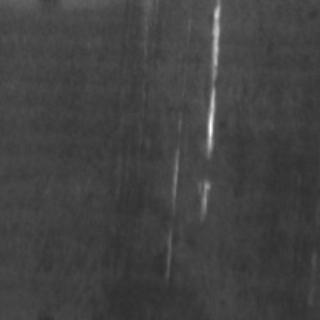scratches: (192, 0, 220, 212)
